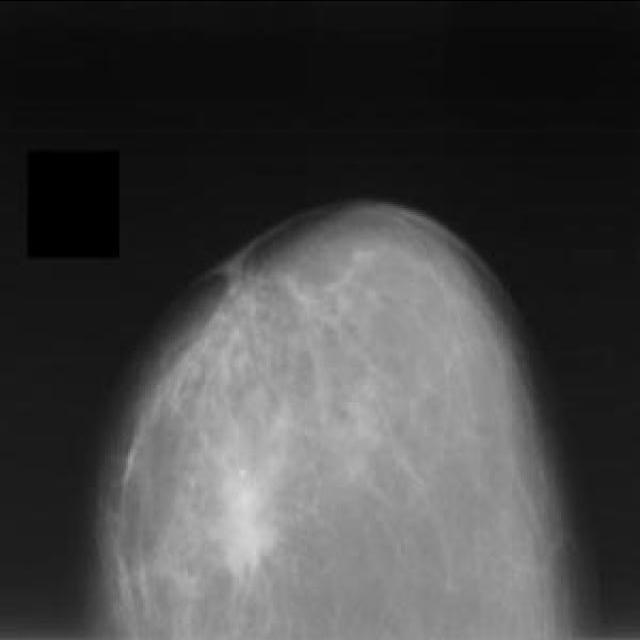tumor: (204, 432, 294, 590)
